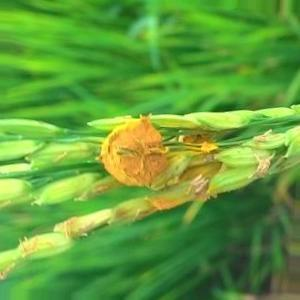Leaf_Scald: (107, 120, 163, 187), (179, 131, 218, 203), (145, 192, 167, 218)
